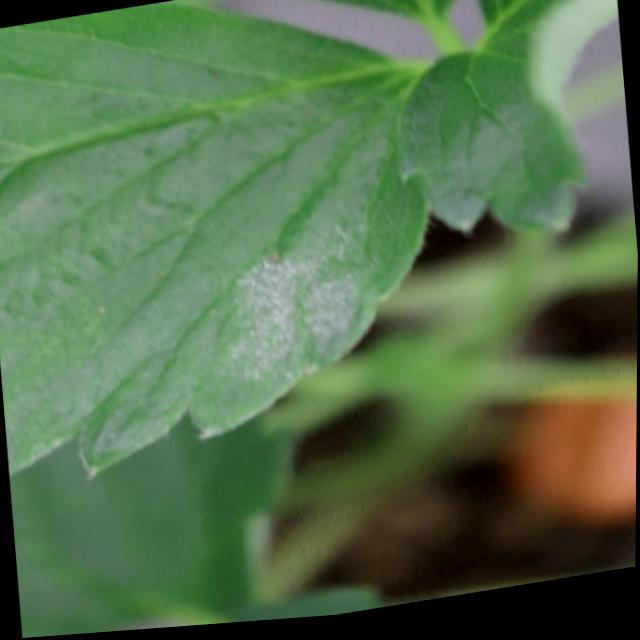Powdery Mildew Leaf: (0, 1, 433, 481), (396, 0, 619, 243)
